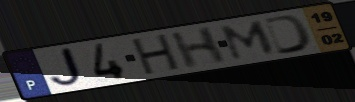4: (93, 41, 128, 82)
D: (261, 13, 314, 57)
H: (168, 24, 229, 71), (130, 32, 183, 77)
J: (47, 45, 88, 90)
M: (219, 19, 278, 62)
